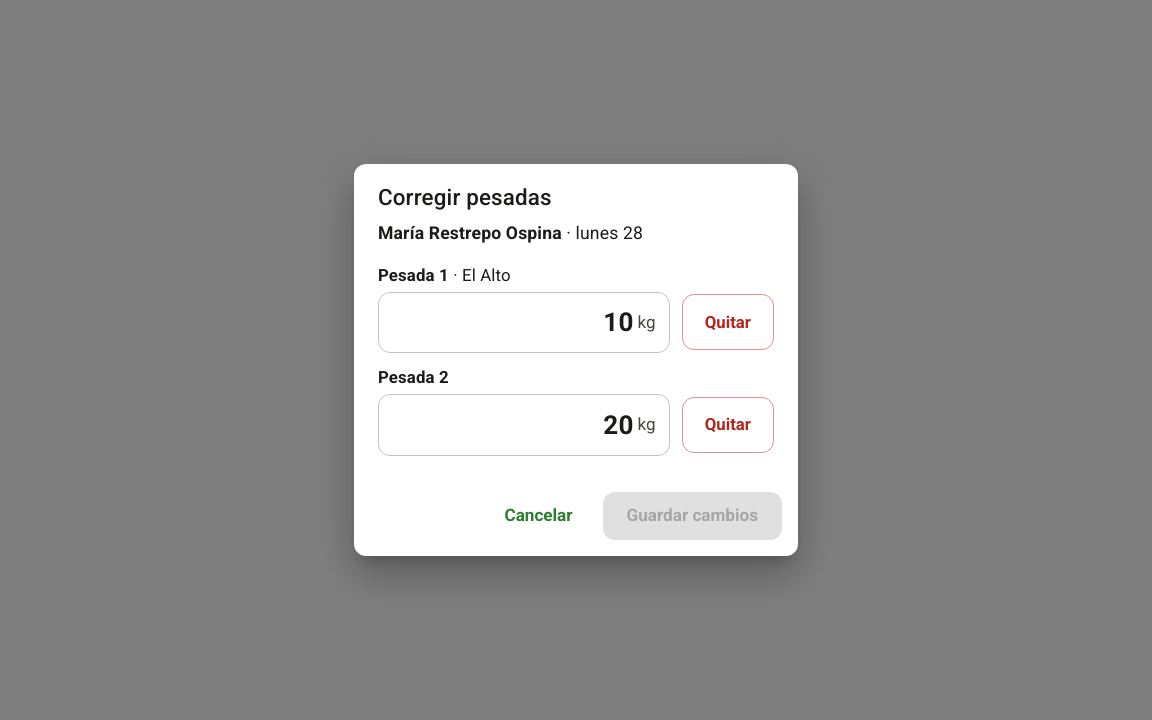
Test: Corregir pesadas › does not save while a box is not a number, even with a removal marked
Expected: the text "Pesada 2" is shown, [378,367,449,387]
Step 1. Click the button with aria-label "Quitar la pesada 1" → (728, 322), box [682,294,774,350]
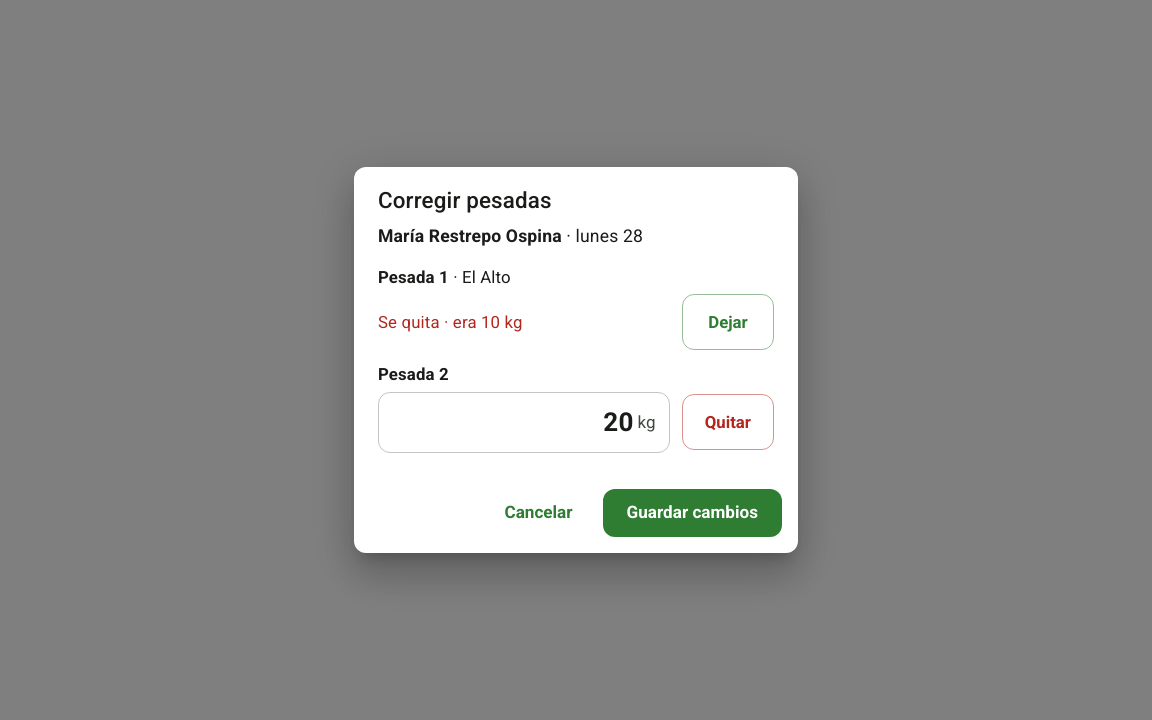
Now the text "Se quita · era 10 kg" is shown, box [378,312,523,332]
Step 2. Replace the text in the field named "Pesada 2, kilos" with "abc" → (506, 422), box [378,392,634,453]
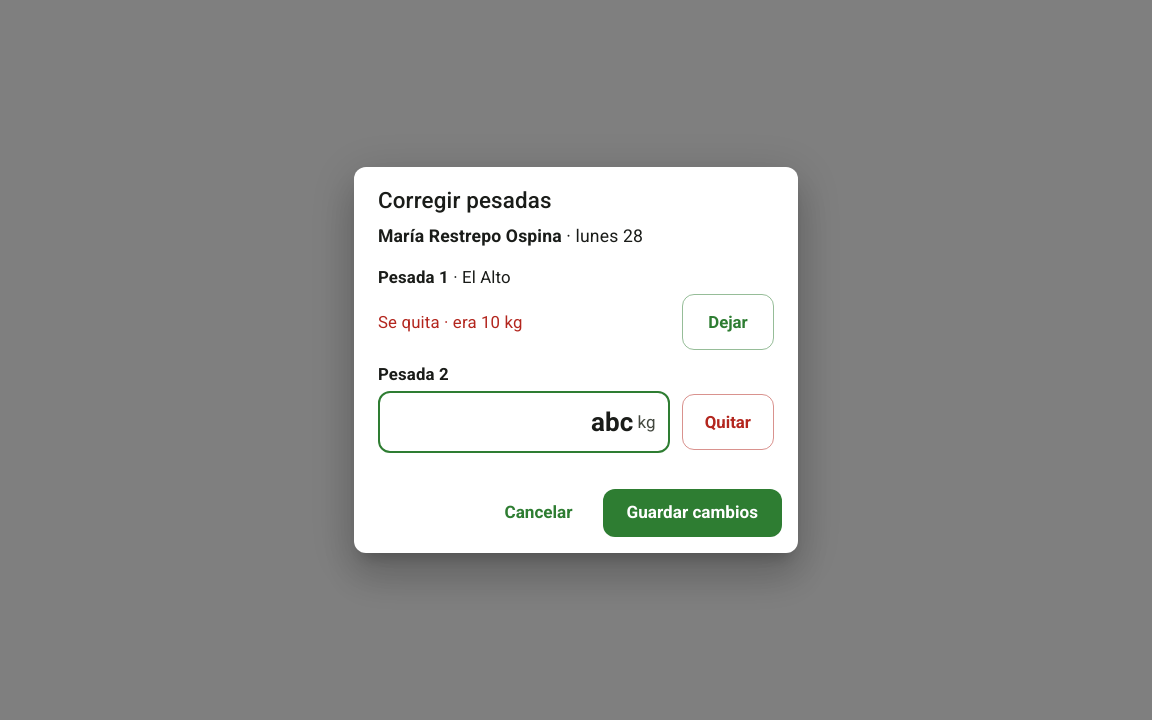
Step 3. Click the button "Guardar cambios" → (692, 513), box [603,489,782,537]
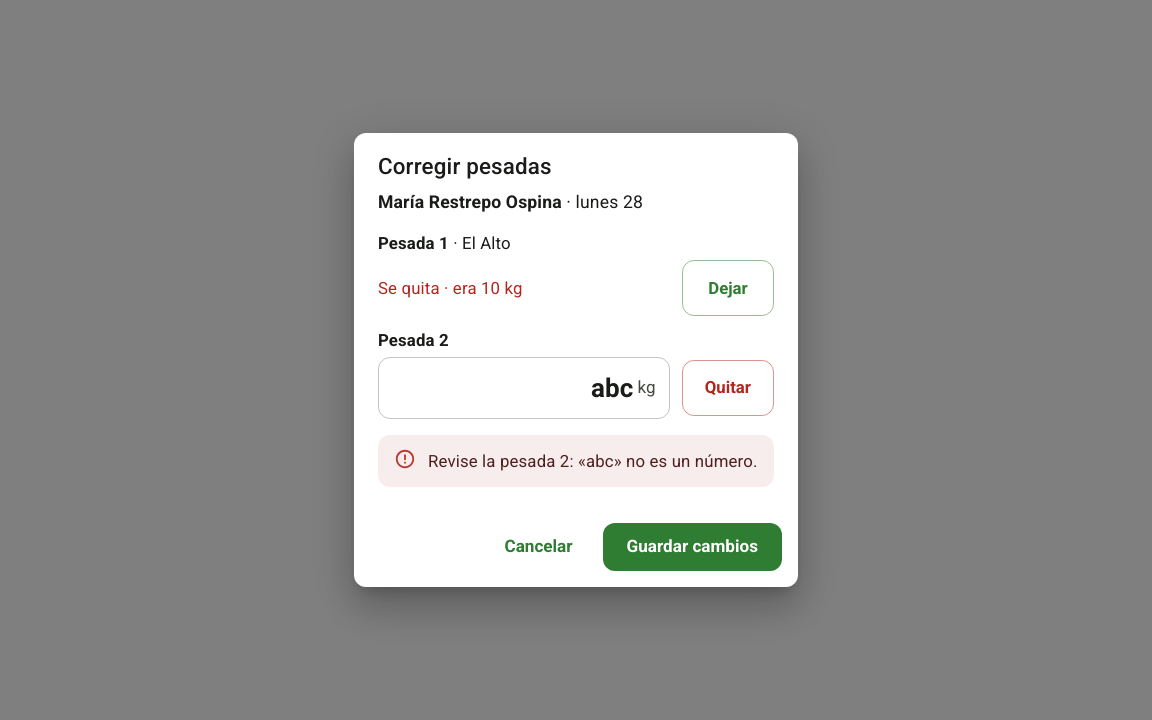
Now the text "Revise la pesada 2: «abc» no es un número." is shown, box [428,451,758,471]
// Typing clears the message.
Step 4. Clear the field named "Pesada 2, kilos" → (506, 388), box [378,357,634,419]
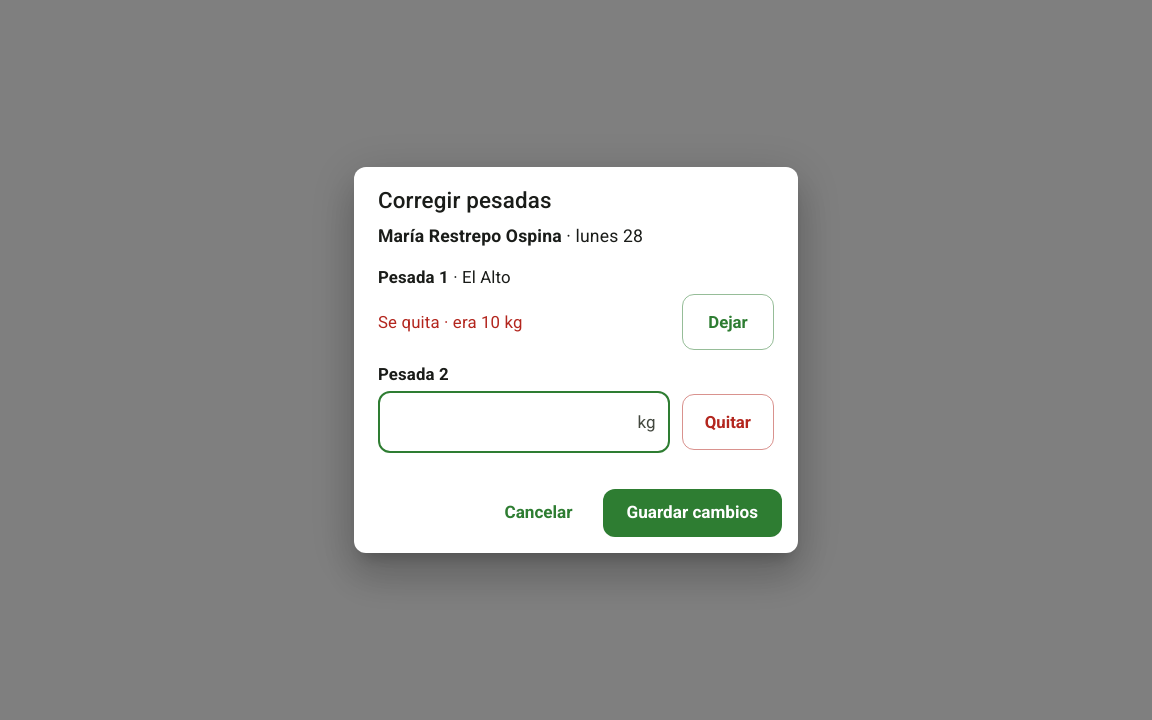
Now the text "no es un número" is gone
